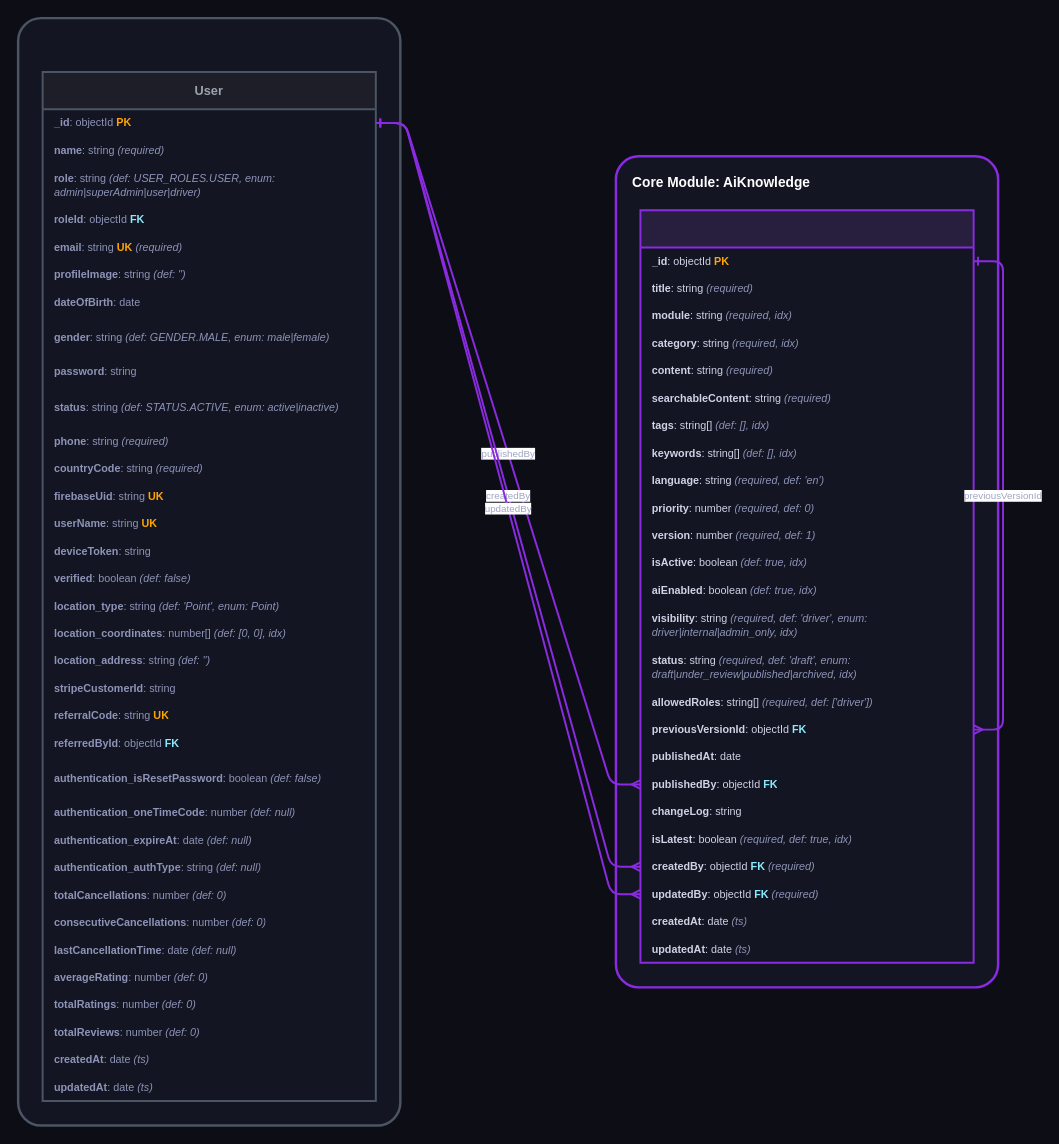
Some shapes in this 1059 by 1144 pixel diagram are drawn without their labels. The shapes that lost their labels are listed below. From the top down, each one's box as (x1, y1, x2, y2) in pixels, then its label:
(16, 16, 401, 1126): Parent Lookups / External Dependencies
(639, 209, 974, 963): AiKnowledge
